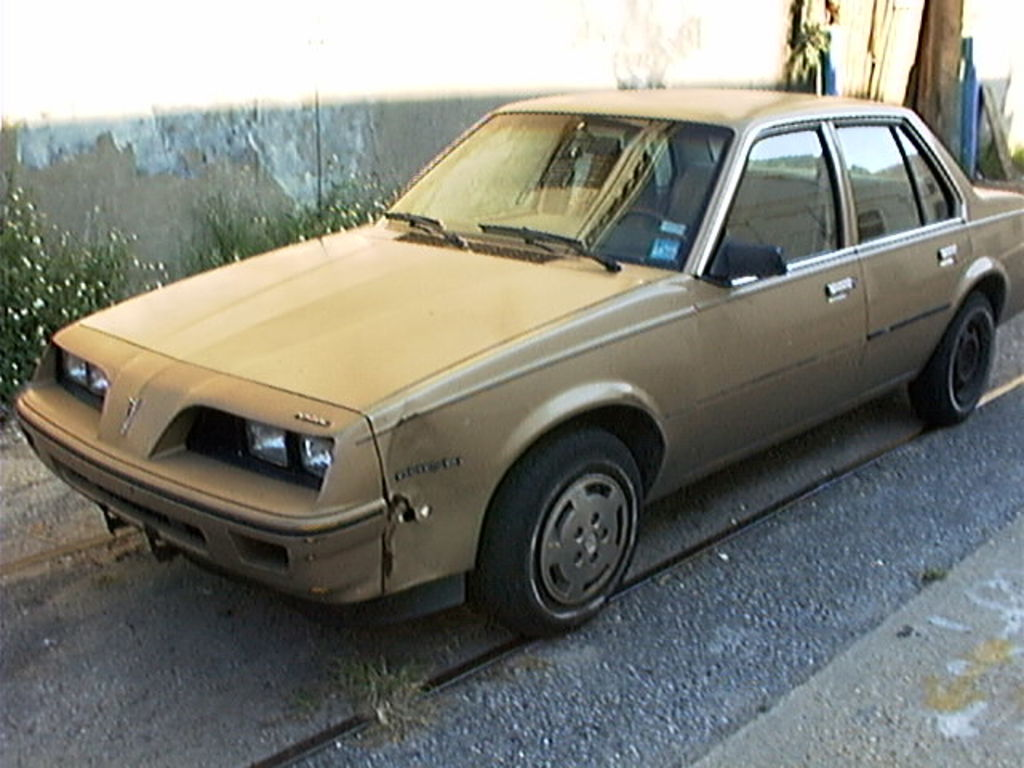Car: (12, 88, 1024, 635)
